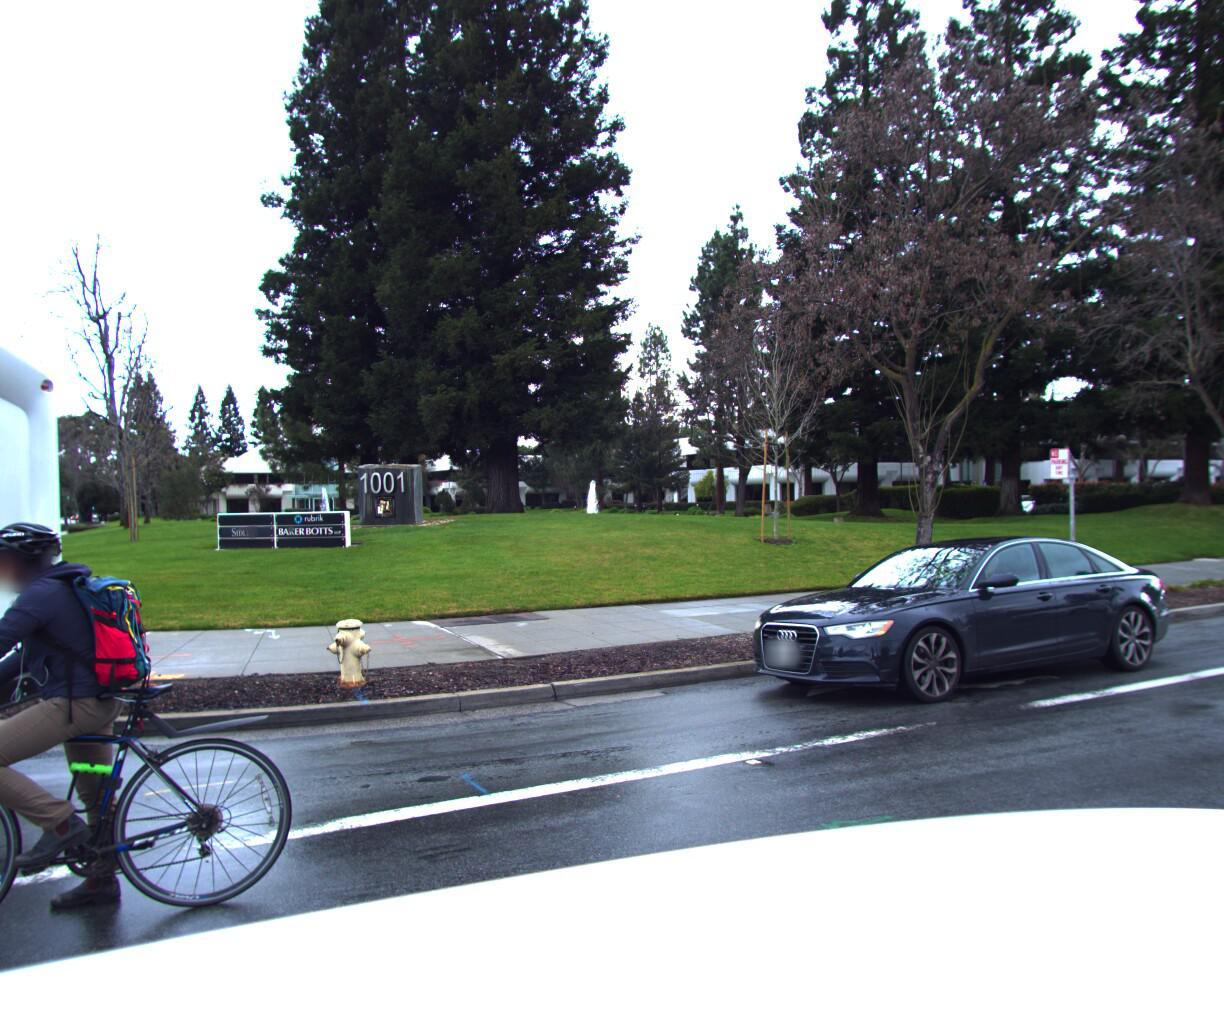bicycle: (0, 484, 333, 1024)
bus: (0, 208, 88, 1024)
car: (720, 529, 1192, 719)
